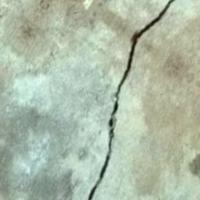crack: (72, 0, 180, 199)
